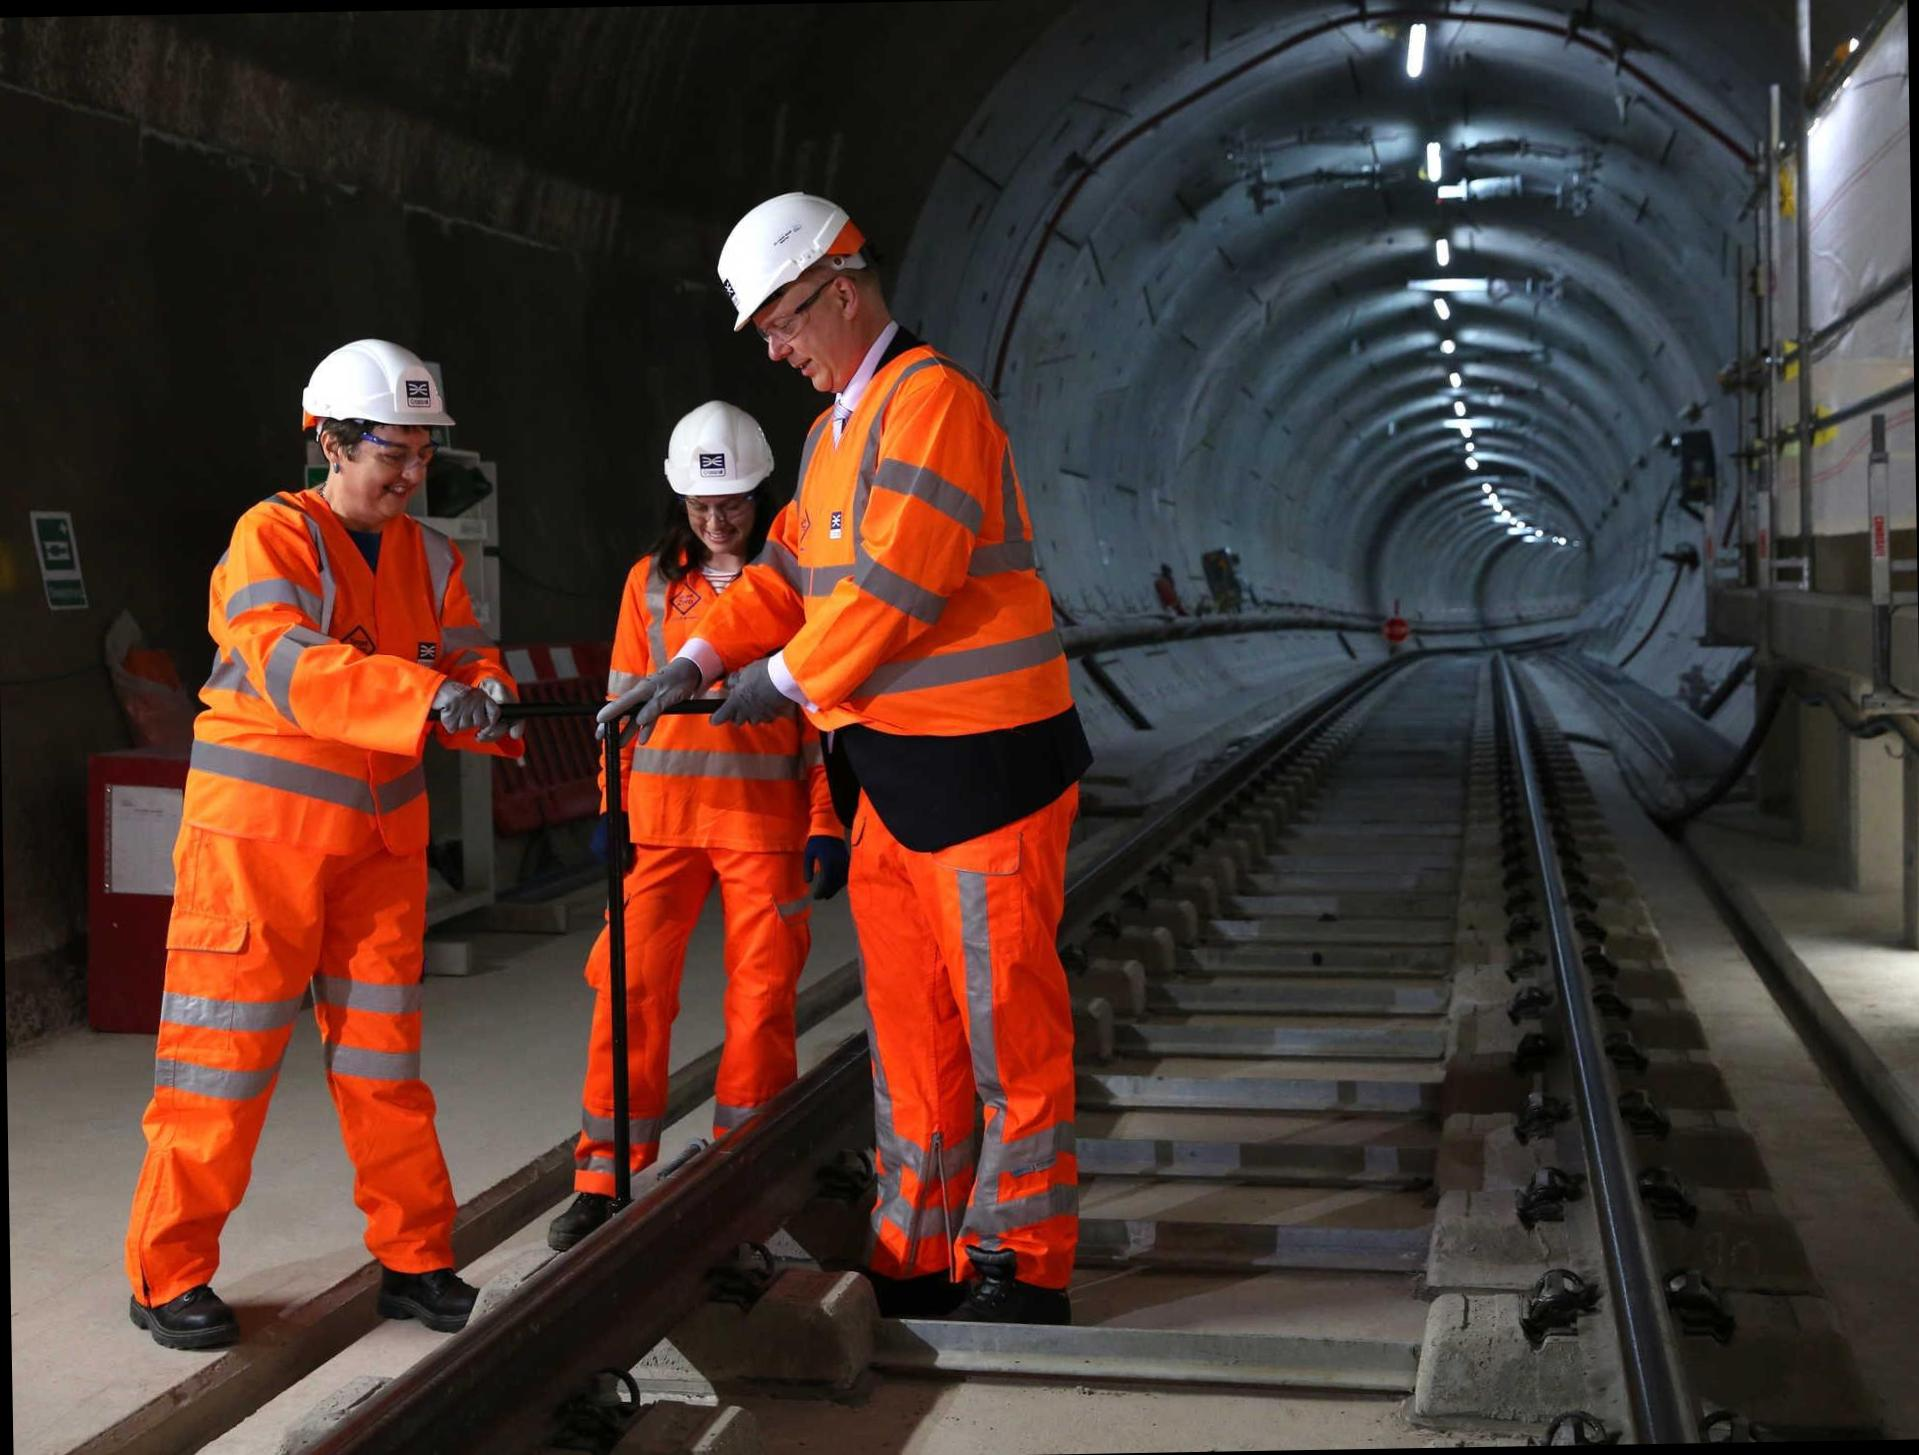Vest: (179, 488, 445, 963), (801, 387, 1066, 786), (604, 556, 804, 890)
